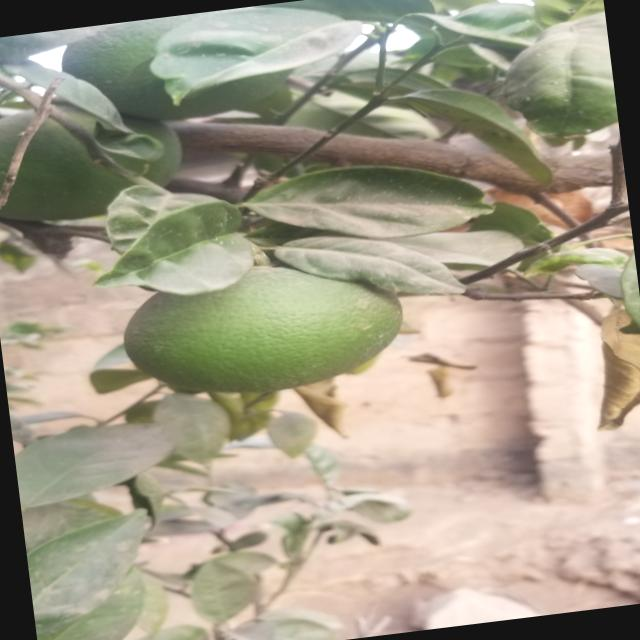Unripe: (122, 250, 408, 404)
